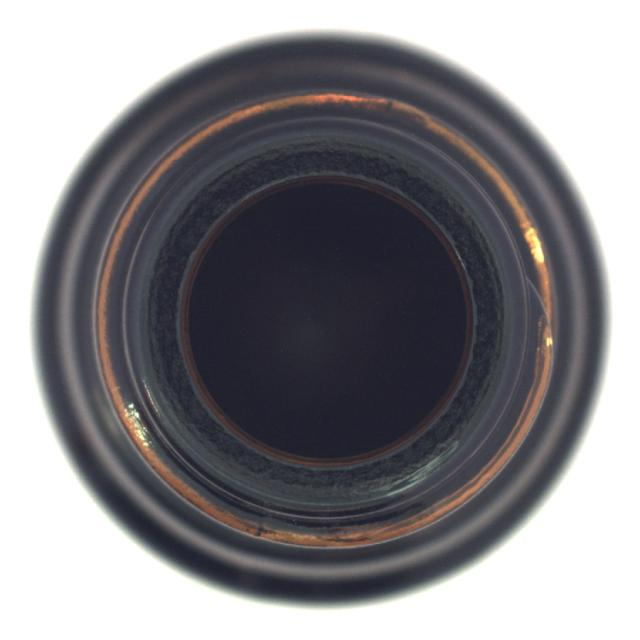bottle-good: (31, 29, 598, 604)
